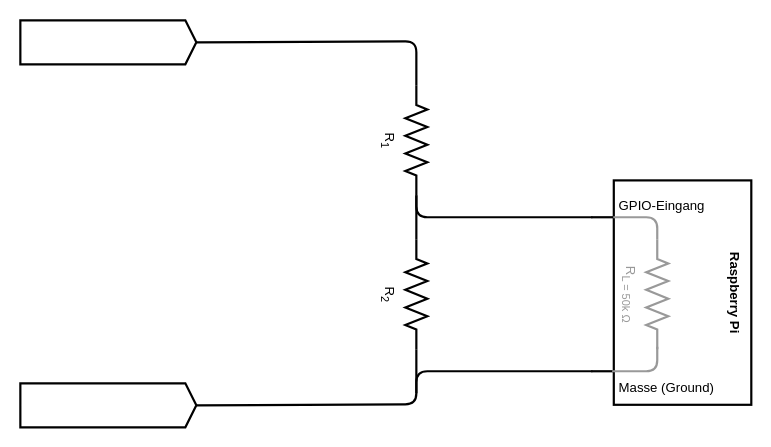
Some shapes in this 771 by 447 pixel diagram are drawn without their labels. The centre of each missing label's shape, as x and y in pixels:
"Digitaler Sensorausgang U Sensor = 5V" goes at (x=108, y=42).
"Ground (Masse) des Sensors" goes at (x=108, y=405).
